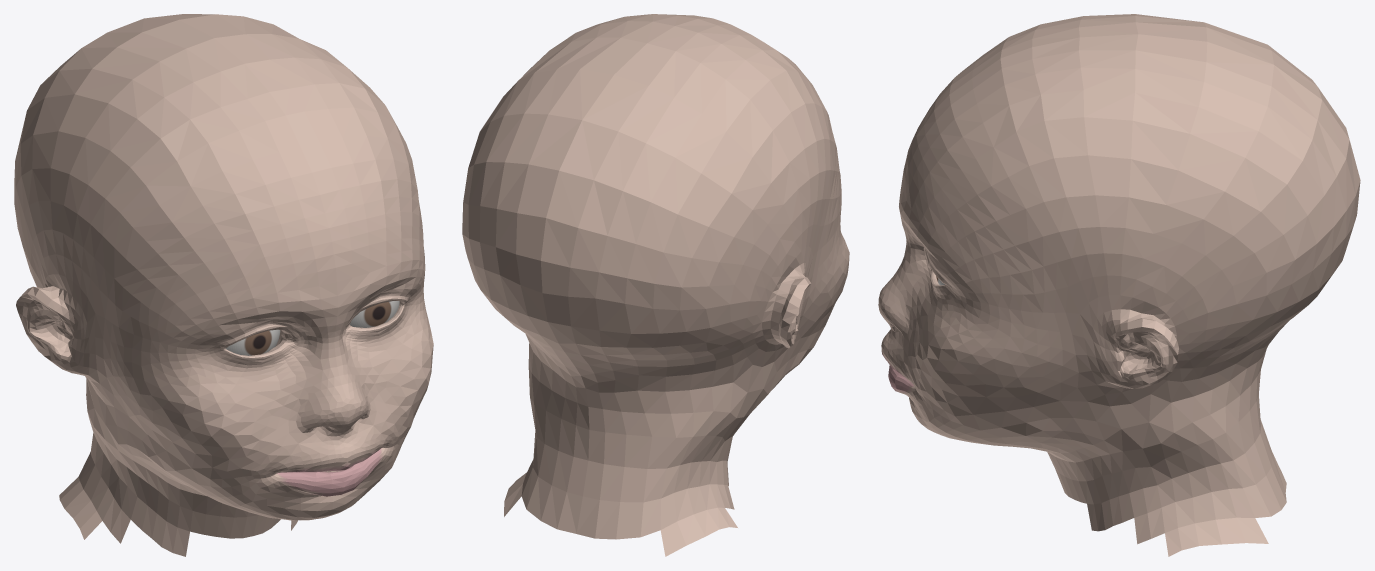
The model's file is karma_face_MH_neutral_AG.glb.
The picture shows the model from 3 angles, left to right: view 1: azimuth 30°, elevation 25°; view 2: azimuth 150°, elevation 25°; view 3: azimuth 270°, elevation 25°; orthographic projection. The views are drawn at different scales.
Parts seen in each view (by area): view 1: head; view 2: head; view 3: head.
Boxes of the visible parts, box(x1,y1,x2,y2) form: head: box(14, 14, 433, 556); head: box(462, 14, 849, 556); head: box(878, 14, 1360, 556).
Size of the model in its own units: 3.03 by 3.91 by 3.62.
